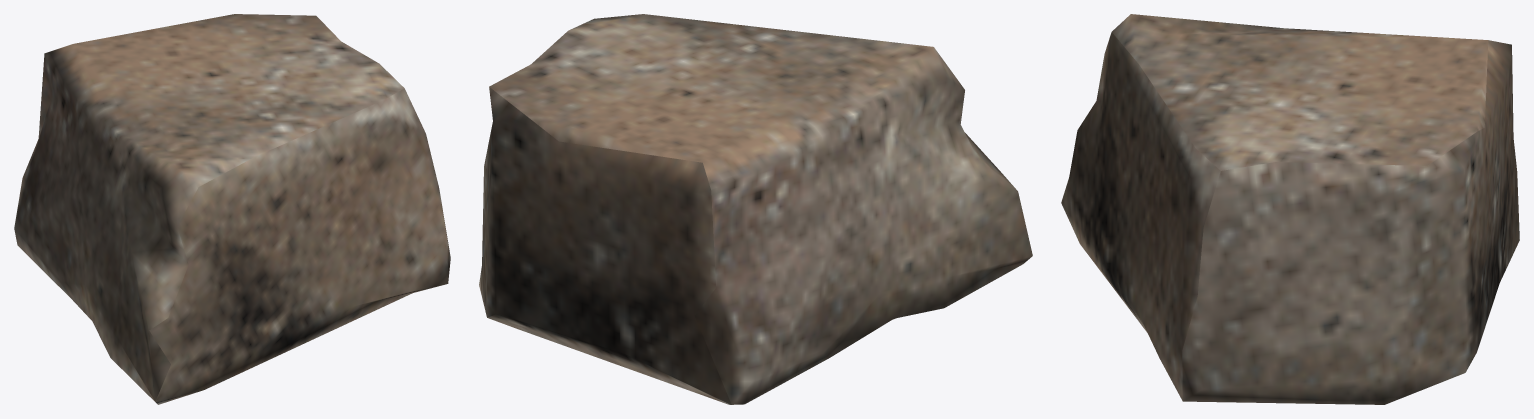
Rendered from Concrete_Rubble6.fbx.
3 views of the same model, side by side, from view 1: azimuth 30°, elevation 25°; view 2: azimuth 150°, elevation 25°; view 3: azimuth 270°, elevation 25° (orthographic). The views are drawn at different scales.
Parts seen in each view (by area): view 1: Concrete_Rubble6; view 2: Concrete_Rubble6; view 3: Concrete_Rubble6.
Boxes of the visible parts, left/top/right/bottom form: Concrete_Rubble6: left=14, top=14, right=450, bottom=404; Concrete_Rubble6: left=479, top=14, right=1032, bottom=404; Concrete_Rubble6: left=1061, top=14, right=1519, bottom=404.
Size of the model in its own units: 6.99 by 3.8 by 6.83.
